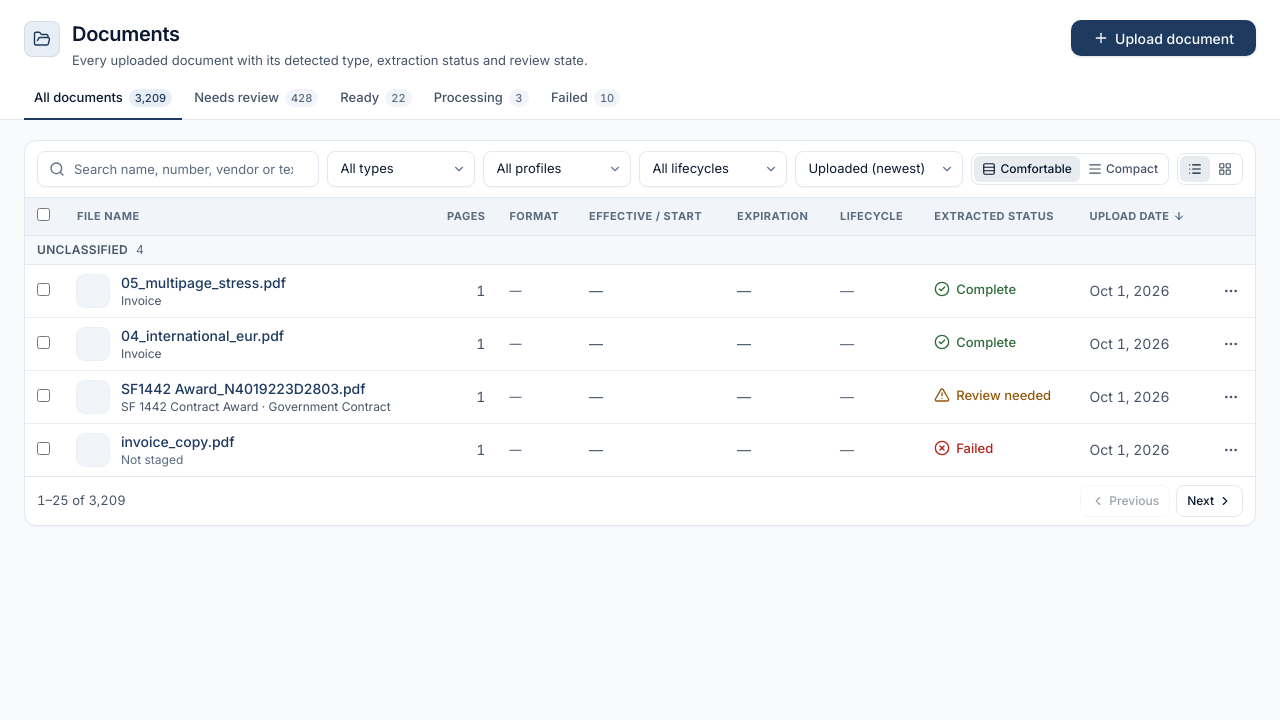
Test: Documents repository (RC2-02) › supports row selection, select visible, and bulk reprocess with partial failure reporting
The image size is (1280, 720).
Expected: the text "05_multipage_stress.pdf" is shown, [121, 273, 286, 293]
Click the checkbox named "Select 05_multipage_stress.pdf".
click(44, 290)  # box [37, 283, 50, 296]
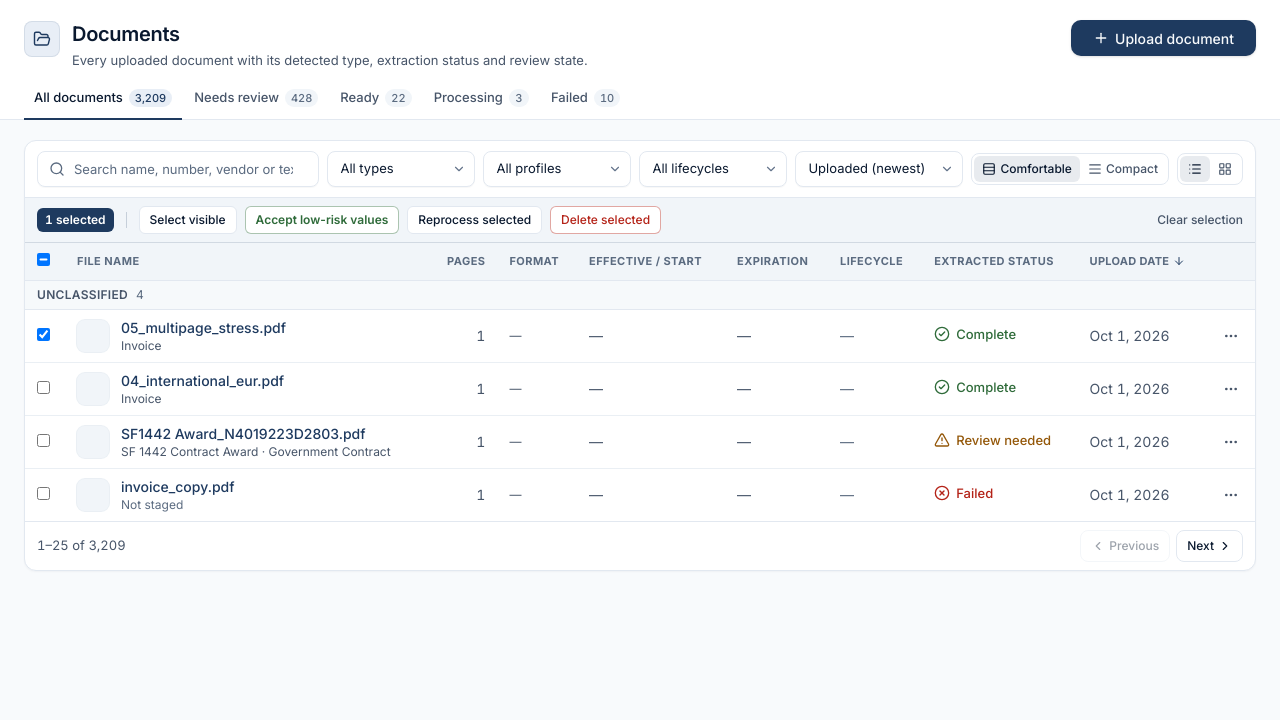
Click the checkbox named "Select 04_international_eur.pdf".
click(44, 388)  # box [37, 381, 50, 394]
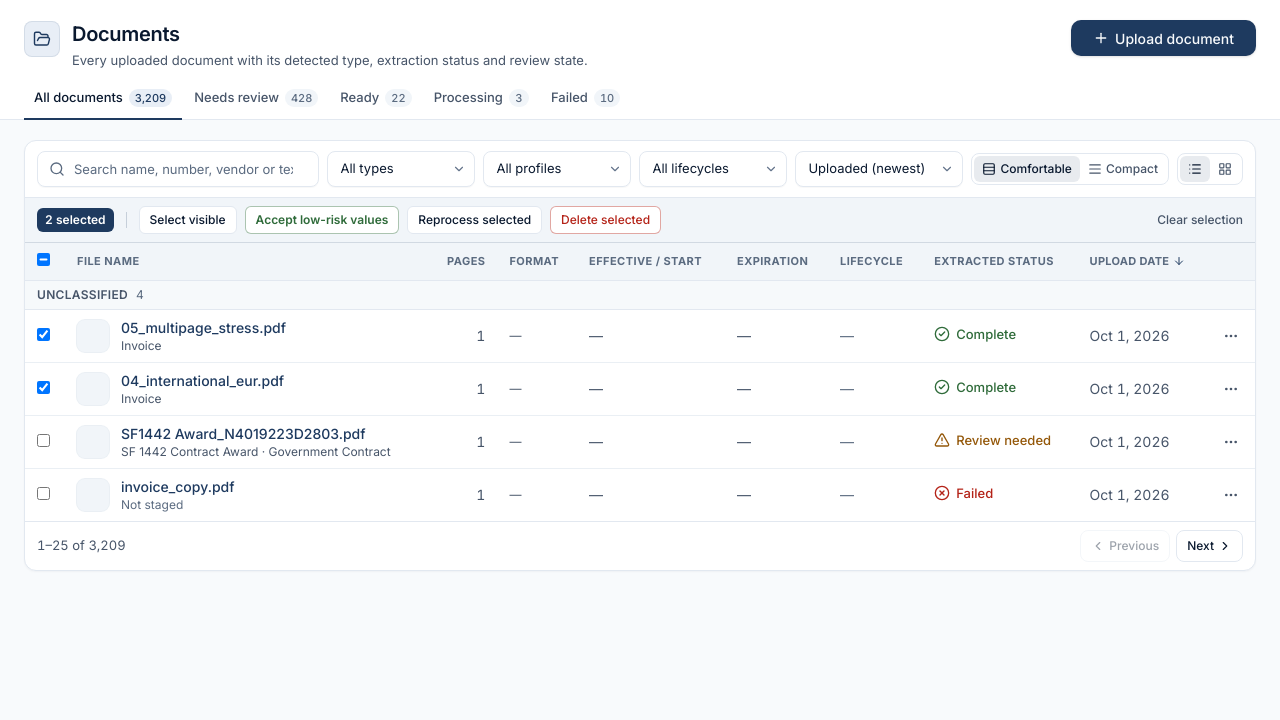
Result: the text "2 selected" is shown at [37, 208, 114, 232]
Click the button "Select visible".
click(188, 220)  # box [139, 206, 237, 234]
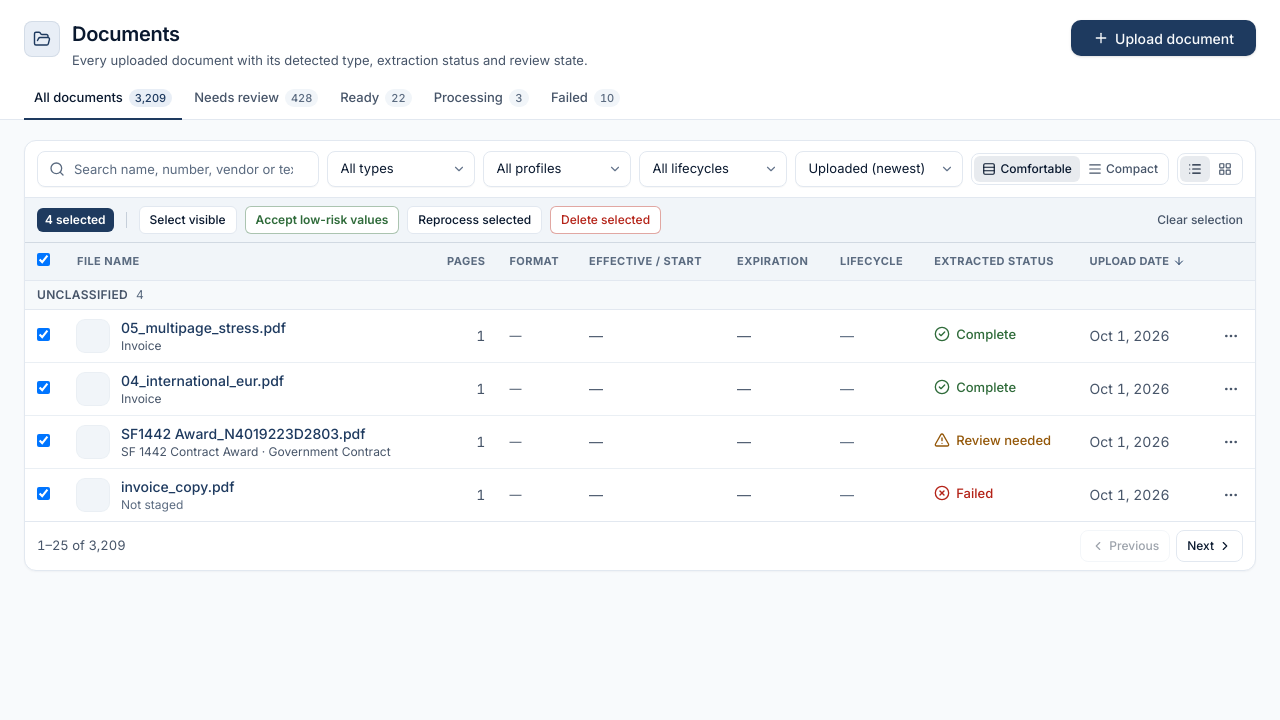
Result: the text "4 selected" is shown at [37, 208, 114, 232]
Click the button "Reprocess selected".
click(475, 220)  # box [407, 206, 542, 234]
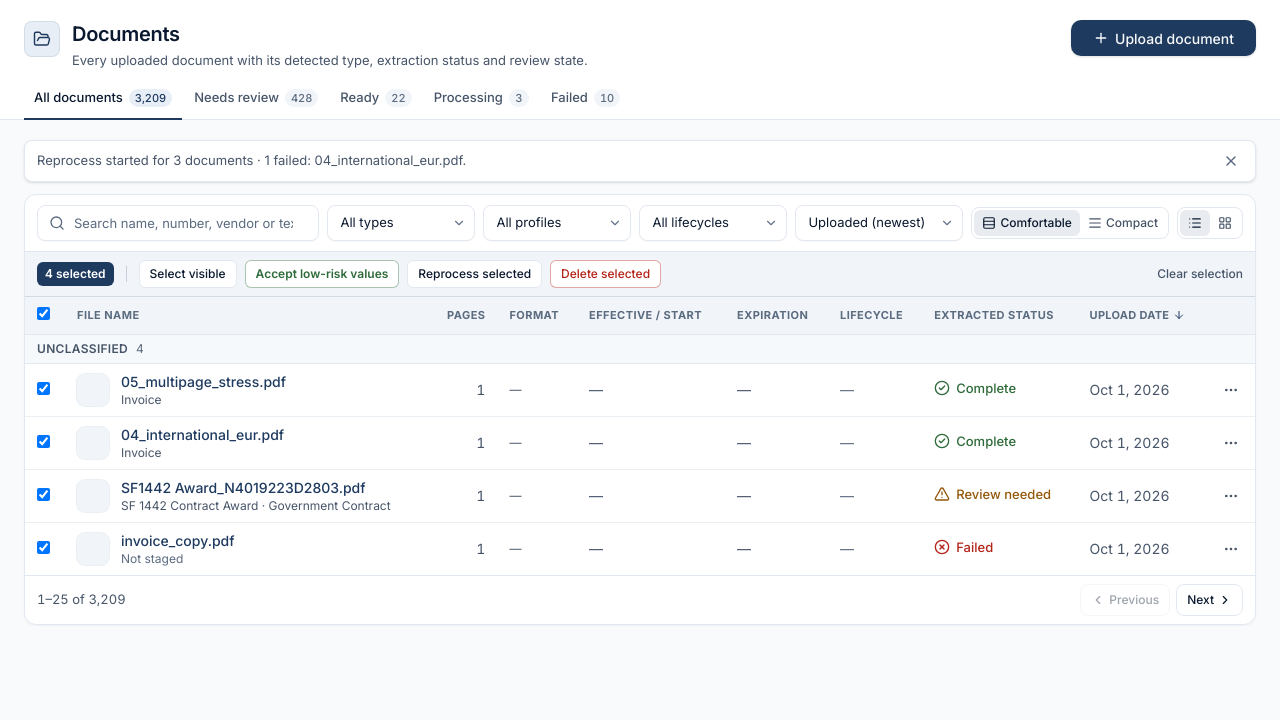
Result: the message shows "Reprocess started" at [37, 152, 466, 168]
Result: the message shows "failed" at [37, 152, 466, 168]
